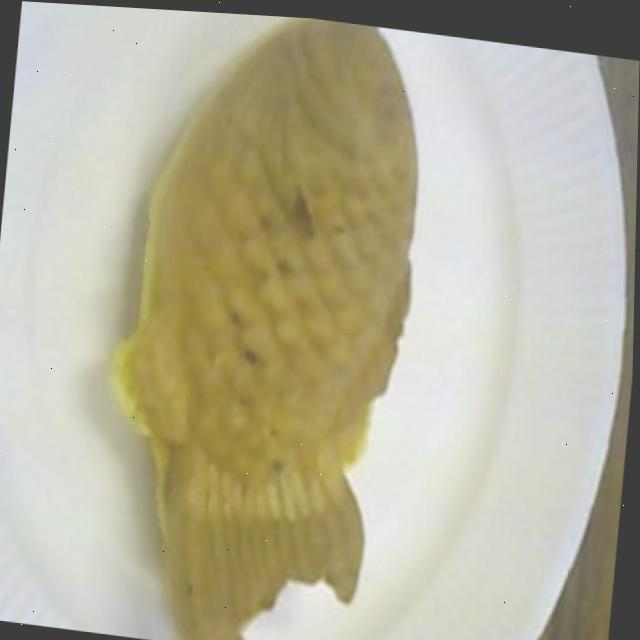熟制海鲜: (81, 4, 450, 640)
